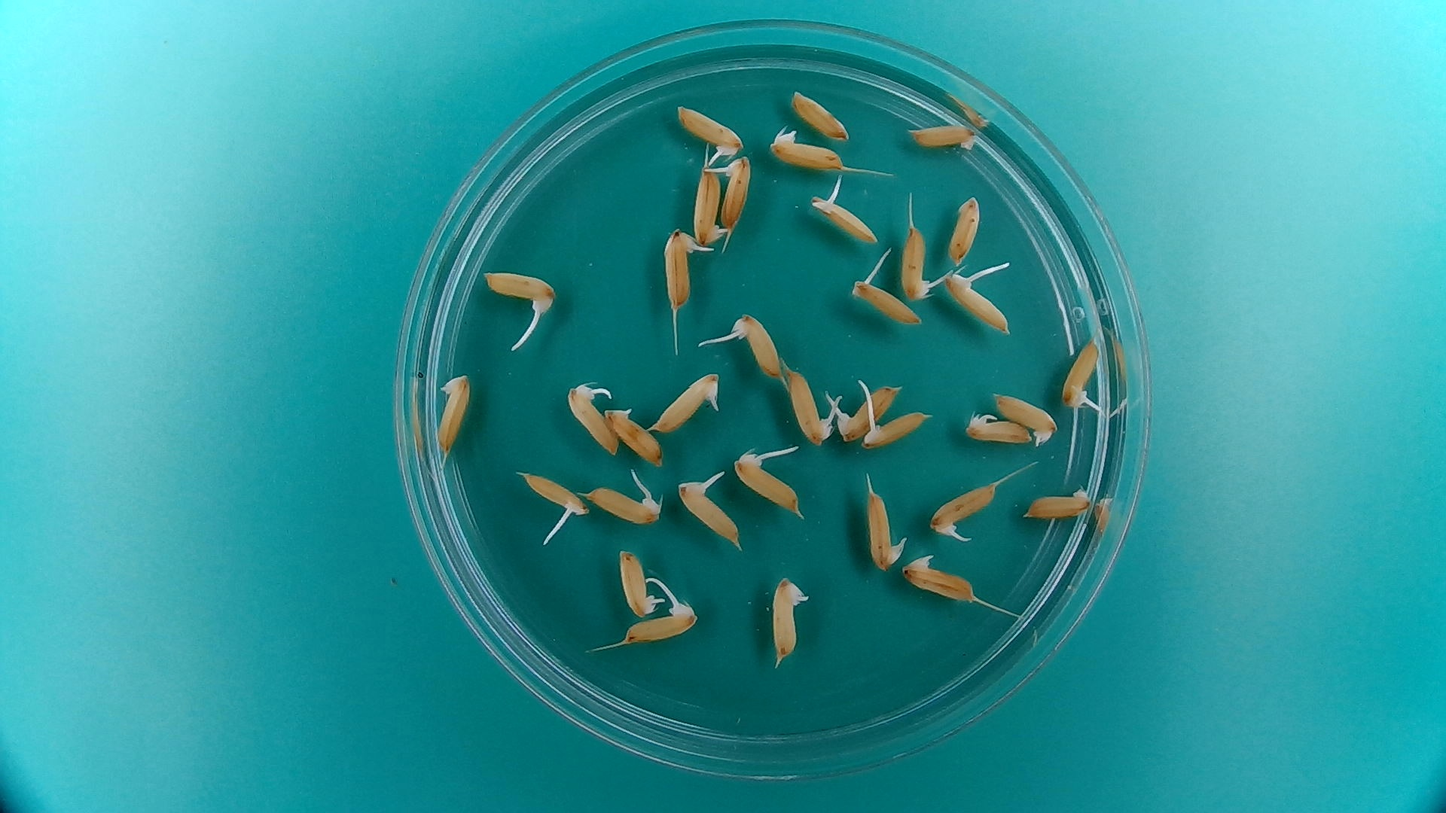no: (603, 400, 667, 468), (764, 125, 847, 171), (431, 368, 474, 455), (790, 87, 853, 142), (1020, 482, 1094, 522), (947, 192, 982, 269), (906, 118, 982, 153)
yes: (649, 369, 726, 434), (672, 100, 749, 160), (940, 276, 1010, 339), (784, 362, 834, 447), (990, 389, 1060, 446), (566, 386, 621, 458), (735, 453, 801, 513), (678, 480, 740, 542), (731, 314, 786, 382), (898, 221, 941, 306), (834, 384, 898, 441), (808, 195, 880, 245), (927, 482, 999, 532), (905, 556, 975, 606), (482, 270, 558, 316), (854, 279, 923, 328), (864, 489, 902, 572), (1059, 340, 1101, 415), (691, 163, 729, 245), (620, 604, 697, 644), (521, 473, 589, 518), (718, 154, 756, 234), (771, 577, 807, 660), (582, 488, 660, 526), (661, 227, 697, 309), (961, 408, 1033, 447), (618, 551, 657, 620), (863, 409, 932, 448)
